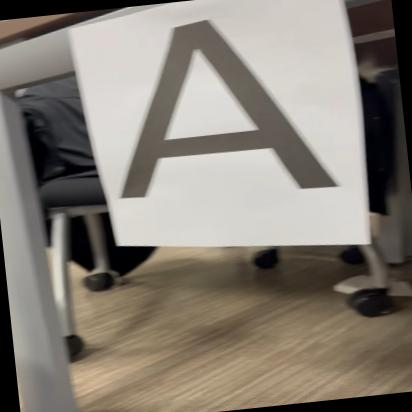seat: (90, 2, 366, 218)
